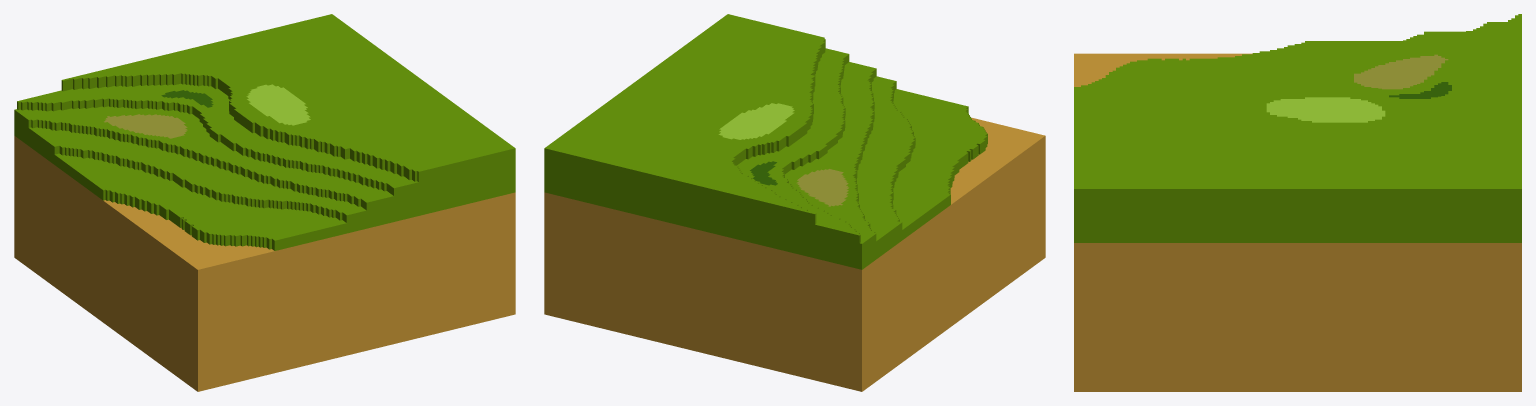
3 renders of one model, left to right at view 1: azimuth 30°, elevation 25°; view 2: azimuth 150°, elevation 25°; view 3: azimuth 270°, elevation 25°, orthographic. The views are drawn at different scales.
Visible parts, largest first — view 1: 15C; view 2: 15C; view 3: 15C.
Part boxes in pixels (x1,y1,x2,y2): 15C: (14,14,515,391); 15C: (544,14,1045,391); 15C: (1074,14,1521,391).
Bounding box in the file's own units: 12.8 × 6.4 × 12.8.
Materials: 1 (1 with a texture image).
